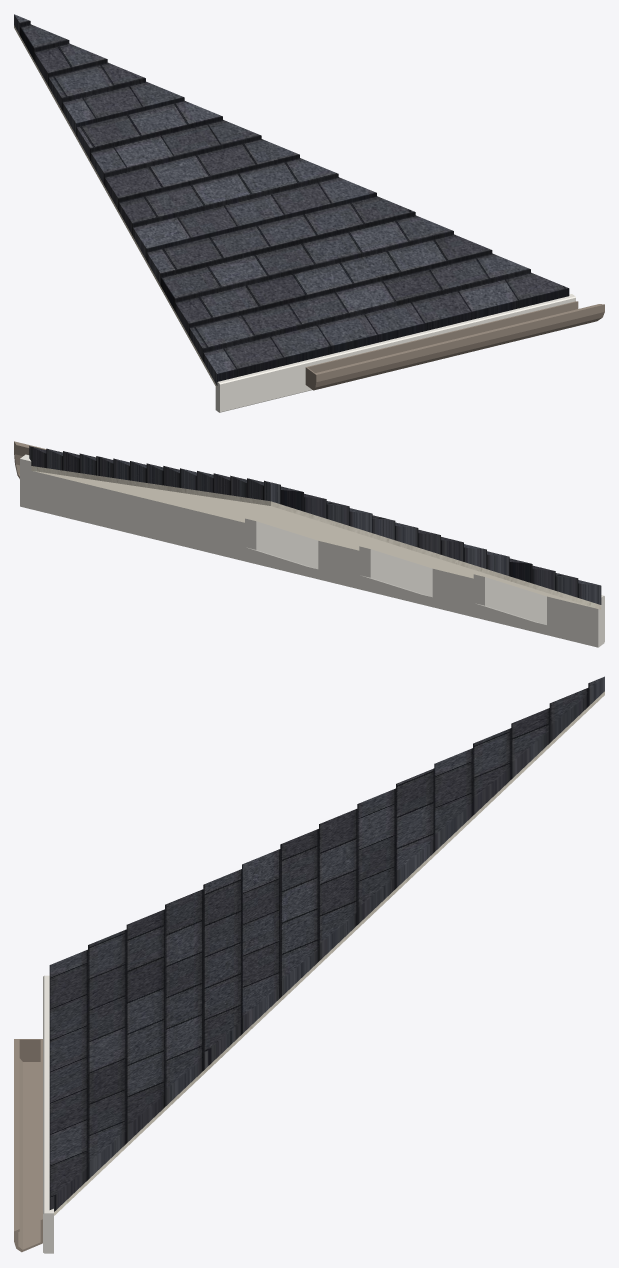
The model's file is roof_main_6_porch.glb.
The picture shows the model from 3 angles, top to bottom: view 1: azimuth 30°, elevation 25°; view 2: azimuth 150°, elevation 25°; view 3: azimuth 270°, elevation 25°; orthographic projection. The views are drawn at different scales.
Parts seen in each view (by area): view 1: roof_main_6_porch_shingles, roof_main_6_porch_gutter, roof_main_6_porch_trim, roof_main_6_porch_plaster; view 2: roof_main_6_porch_trim, roof_main_6_porch_shingles, roof_main_6_porch_plaster, roof_main_6_porch_gutter; view 3: roof_main_6_porch_shingles, roof_main_6_porch_gutter, roof_main_6_porch_plaster, roof_main_6_porch_trim.
Part boxes in pixels (box(x1,y1,x2,y2)): roof_main_6_porch_shingles: box(14, 14, 569, 385); roof_main_6_porch_gutter: box(305, 301, 604, 390); roof_main_6_porch_trim: box(215, 294, 575, 412); roof_main_6_porch_plaster: box(14, 25, 217, 388); roof_main_6_porch_trim: box(20, 454, 604, 647); roof_main_6_porch_shingles: box(29, 446, 601, 604); roof_main_6_porch_plaster: box(31, 466, 601, 609); roof_main_6_porch_gutter: box(14, 441, 46, 478); roof_main_6_porch_shingles: box(49, 676, 604, 1211); roof_main_6_porch_gutter: box(14, 1039, 42, 1252); roof_main_6_porch_plaster: box(54, 691, 604, 1215); roof_main_6_porch_trim: box(43, 975, 53, 1253).
Size of the model in its own units: 2.66 by 1.69 by 2.66.
Materials: 4 (2 with a texture image).
